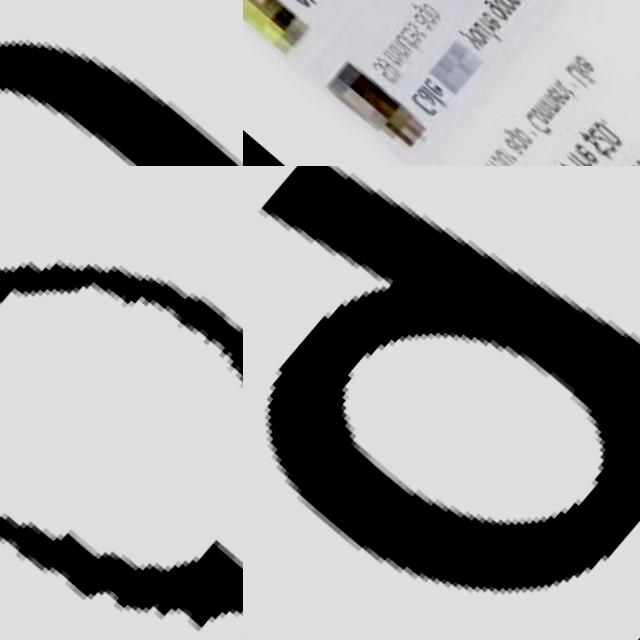0: (0, 0, 243, 166), (599, 113, 632, 141)
2: (593, 118, 627, 147)
5: (376, 58, 404, 80)
9: (380, 50, 411, 76)
O: (0, 252, 243, 623)
Q: (243, 166, 640, 640)
